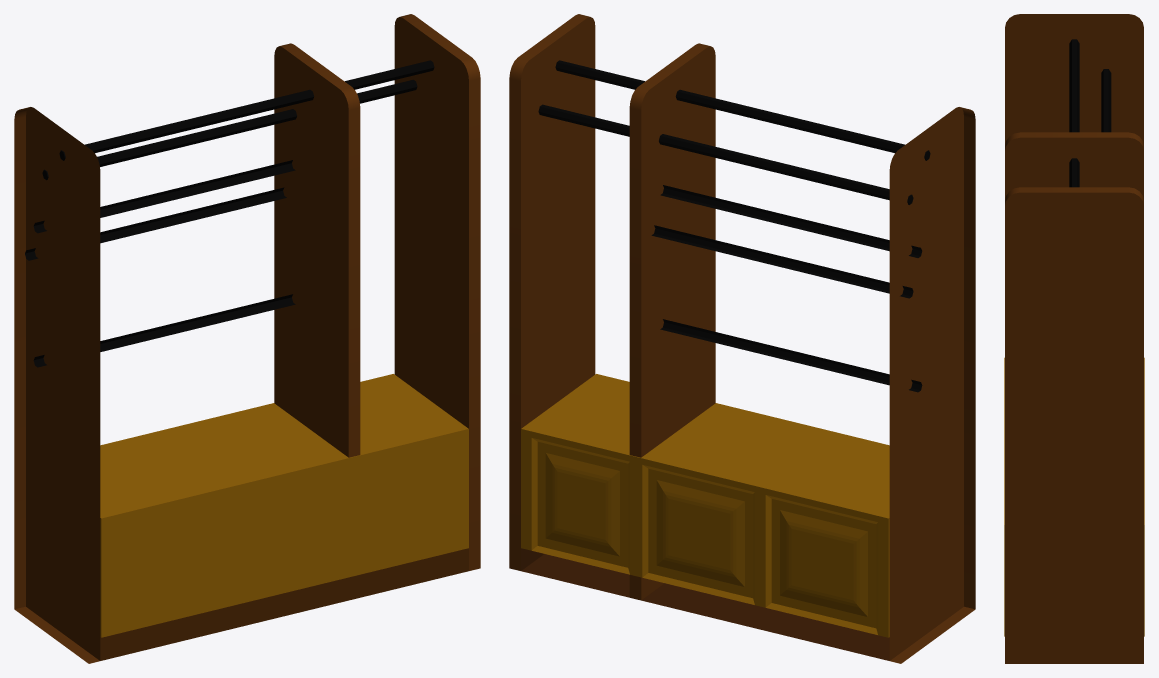
The model's file is alna.glb.
3 renders of one model, left to right at view 1: azimuth 30°, elevation 25°; view 2: azimuth 150°, elevation 25°; view 3: azimuth 270°, elevation 25°, orthographic. The views are drawn at different scales.
Parts seen in each view (by area): view 1: Cube.001; view 2: Cube.001; view 3: Cube.001.
Boxes of the visible parts, left/top/right/bottom form: Cube.001: left=14, top=14, right=480, bottom=663; Cube.001: left=509, top=14, right=975, bottom=663; Cube.001: left=1004, top=14, right=1144, bottom=663.
Bounding box in the file's own units: 1.3 × 1.6 × 0.4311.
